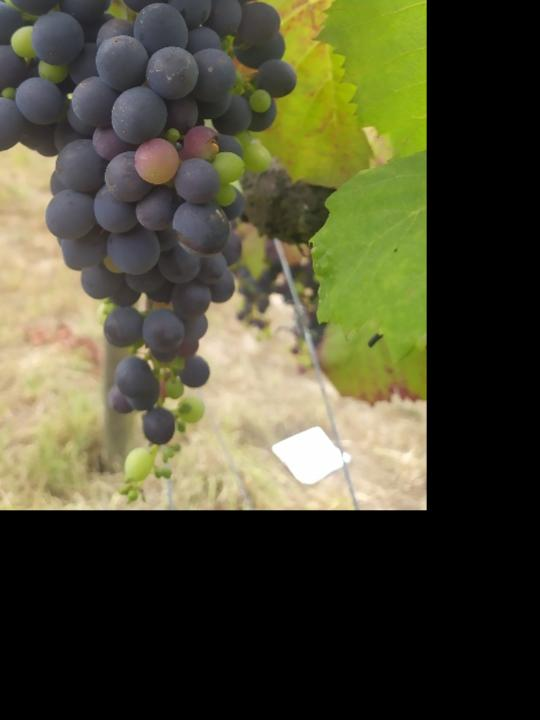grape: (0, 0, 296, 503)
